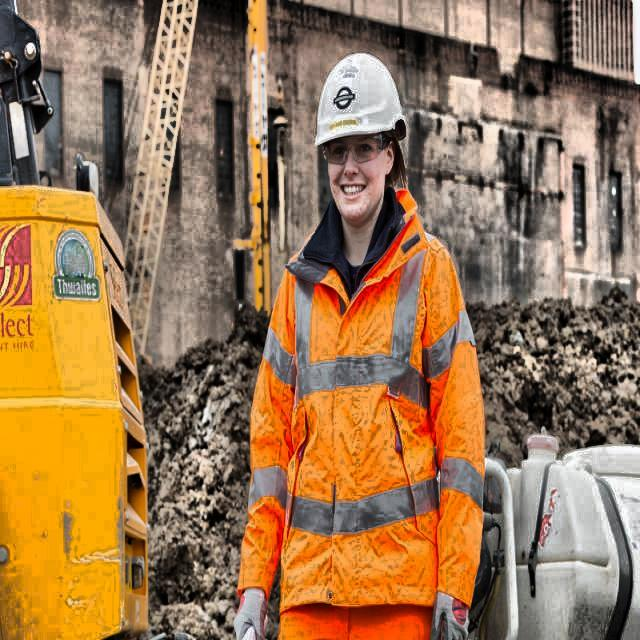person: (229, 55, 482, 640)
